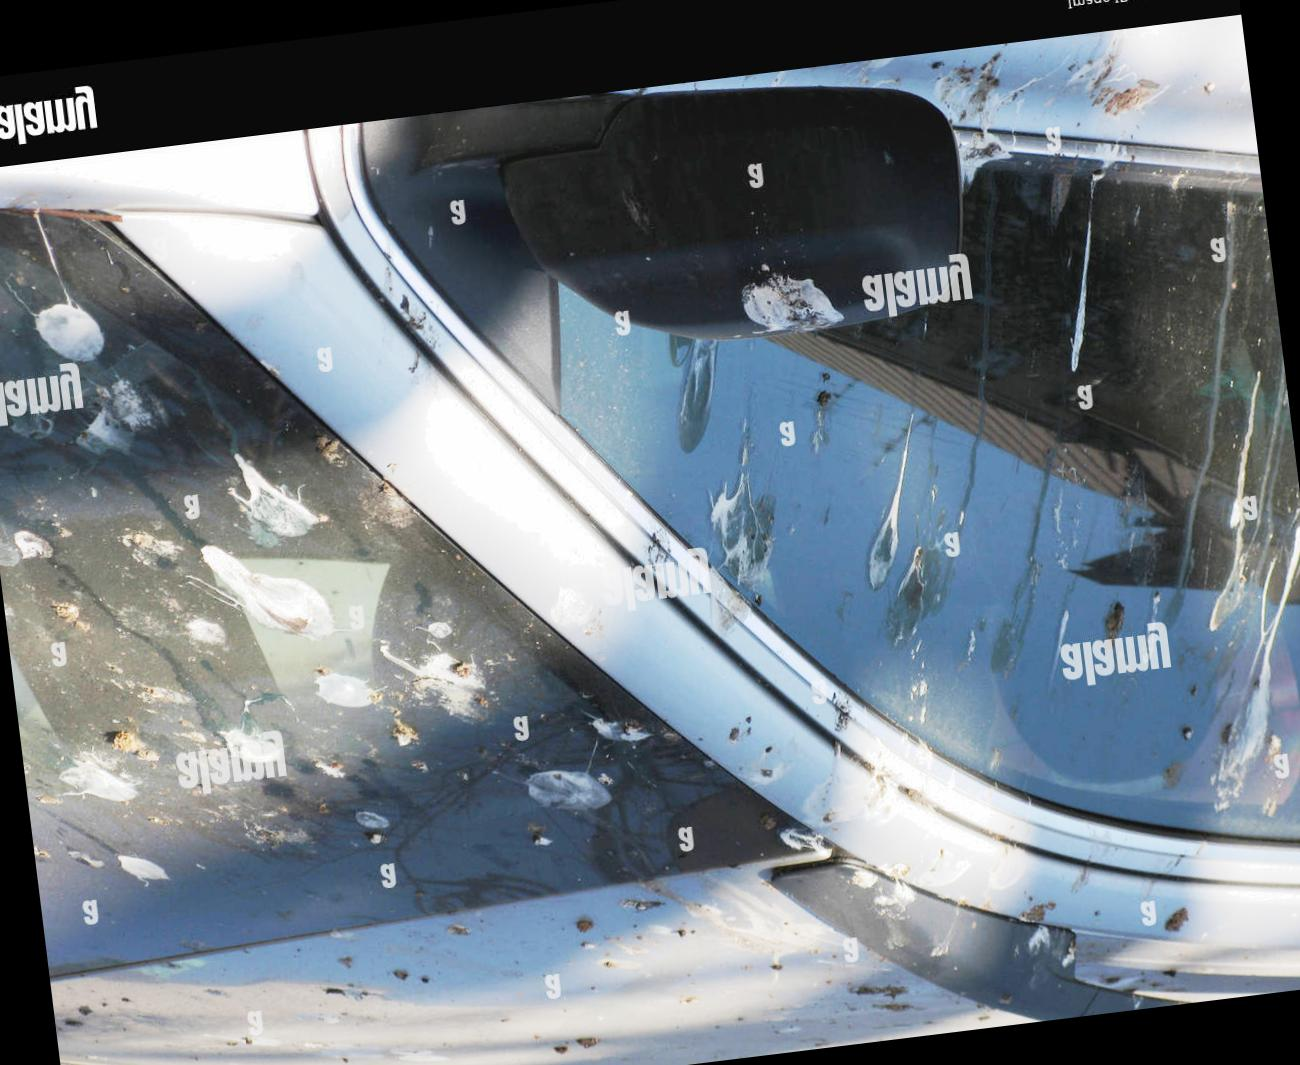Bird Poop: (1213, 528, 1300, 810), (1177, 199, 1235, 595), (638, 879, 855, 958), (932, 51, 1044, 186), (954, 180, 997, 529), (990, 469, 1051, 677), (1210, 373, 1259, 630), (203, 548, 334, 639), (709, 418, 773, 603), (36, 212, 104, 361), (317, 435, 416, 530), (799, 742, 899, 827), (231, 454, 321, 547), (380, 643, 487, 717), (869, 417, 911, 588), (1076, 40, 1164, 118), (78, 378, 166, 454), (742, 273, 842, 332), (886, 547, 946, 645), (668, 336, 718, 453), (59, 752, 137, 801), (836, 859, 915, 906), (526, 770, 611, 810), (1071, 214, 1091, 372), (245, 812, 311, 848), (225, 728, 283, 766), (224, 1010, 281, 1047), (120, 531, 180, 566), (316, 672, 371, 706), (918, 850, 972, 882), (989, 847, 1028, 890), (780, 824, 830, 857), (119, 606, 171, 635), (106, 731, 158, 760), (593, 717, 651, 742), (1024, 906, 1051, 955), (119, 855, 168, 881), (52, 603, 91, 632), (13, 531, 52, 557), (140, 685, 191, 704), (188, 619, 225, 645), (850, 984, 906, 1000), (67, 849, 104, 868), (392, 719, 418, 746), (1105, 603, 1124, 638), (598, 955, 641, 970), (355, 810, 389, 830), (1165, 908, 1188, 932), (424, 621, 452, 639), (316, 760, 346, 778), (621, 900, 661, 912), (184, 494, 200, 520), (575, 918, 593, 931), (578, 1038, 597, 1047)
